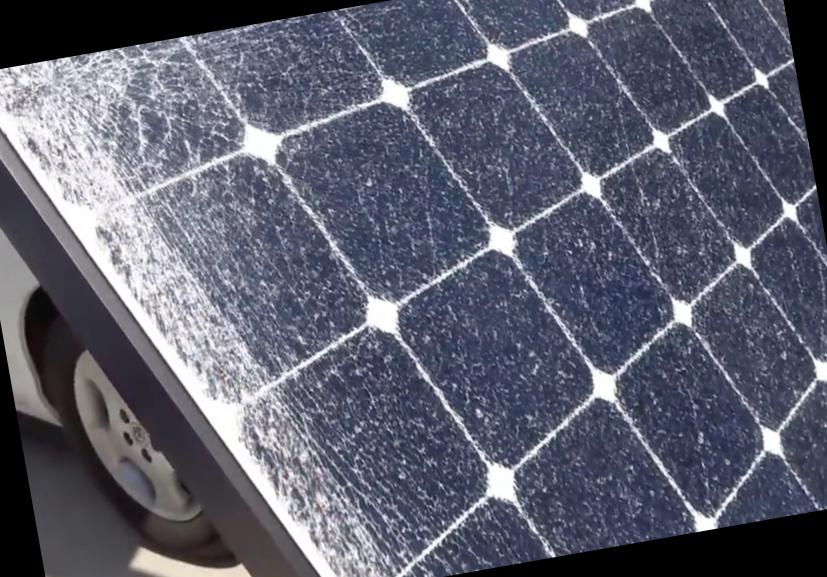Crack: (0, 11, 355, 257), (168, 373, 427, 576), (65, 215, 306, 418)
